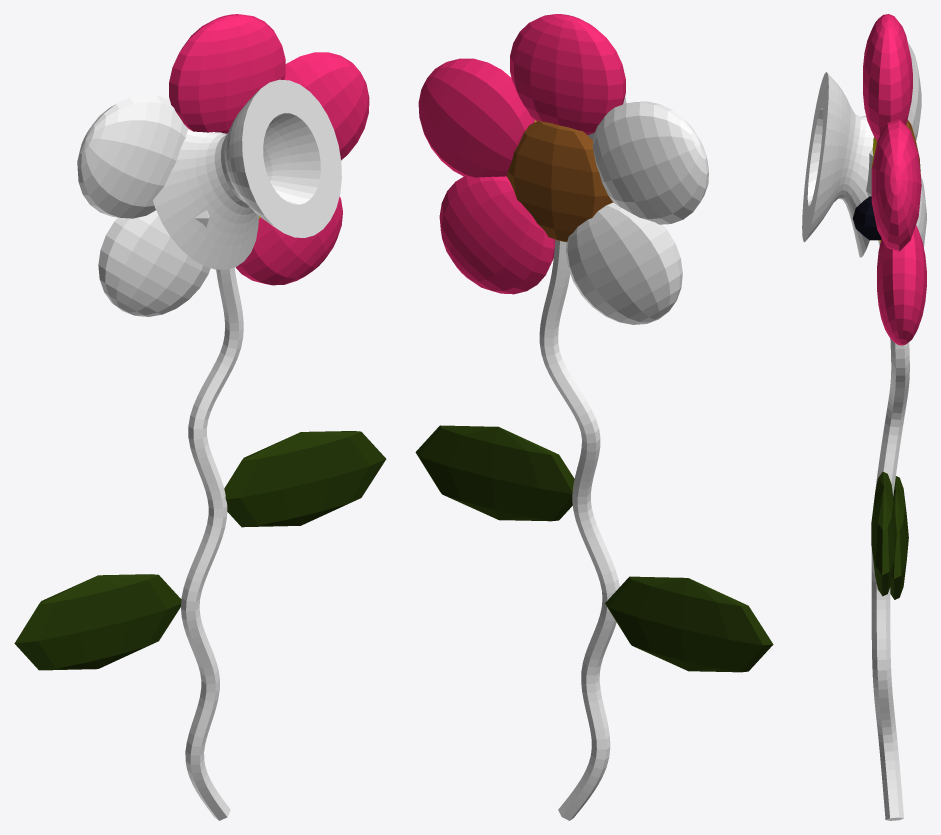
File: Bichis 2 flor(1).fbx
3 views of the same model, side by side, from view 1: azimuth 30°, elevation 25°; view 2: azimuth 150°, elevation 25°; view 3: azimuth 270°, elevation 25° (orthographic).
Parts seen in each view (by area): view 1: Tubo (×2), Esfera UV (×2), Esfera UV 6, Esfera UV 3, Esfera UV 4, Esfera UV 1, Esfera UV 2; view 2: Esfera UV (×2), Esfera UV 6, Tubo, Esfera UV 3, Esfera UV 4, Esfera UV 1, Esfera UV 2, Esfera UV 5; view 3: Tubo (×2), Esfera UV (×3), Esfera UV 1, Esfera UV 2, Esfera UV 6, Esfera UV 3, Esfera UV 4.
Part boxes in pixels (x1,y1,x2,y2): Tubo (×2): (153,79,341,820); Esfera UV (×2): (169,14,386,527); Esfera UV 6: (14,574,181,670); Esfera UV 3: (77,94,188,218); Esfera UV 4: (98,210,210,316); Esfera UV 1: (284,52,369,160); Esfera UV 2: (236,196,342,285); Esfera UV (×2): (415,14,625,521); Esfera UV 6: (605,576,773,672); Tubo: (539,240,619,820); Esfera UV 3: (592,101,708,224); Esfera UV 4: (566,202,682,324); Esfera UV 1: (418,58,534,177); Esfera UV 2: (439,176,555,294); Esfera UV 5: (506,120,613,242); Tubo (×2): (802,72,909,820); Esfera UV (×3): (852,14,912,596); Esfera UV 1: (871,119,921,251); Esfera UV 2: (877,225,926,345); Esfera UV 6: (890,476,908,599); Esfera UV 3: (907,42,921,140); Esfera UV 4: (878,176,926,247).
Size of the model in its own units: 3.17 by 6.64 by 0.934.
